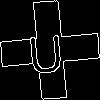U: (25, 25, 66, 75)
